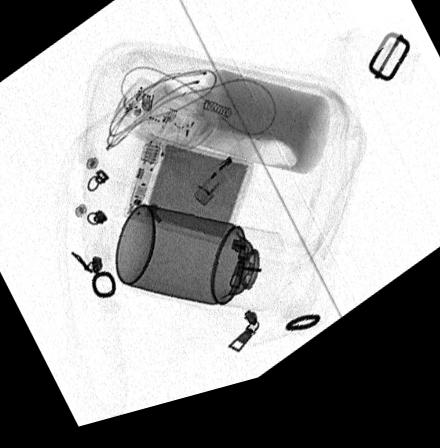Lighter: (193, 146, 261, 216)
Powerbank: (123, 140, 254, 260)
Sprayer: (114, 211, 285, 325)
